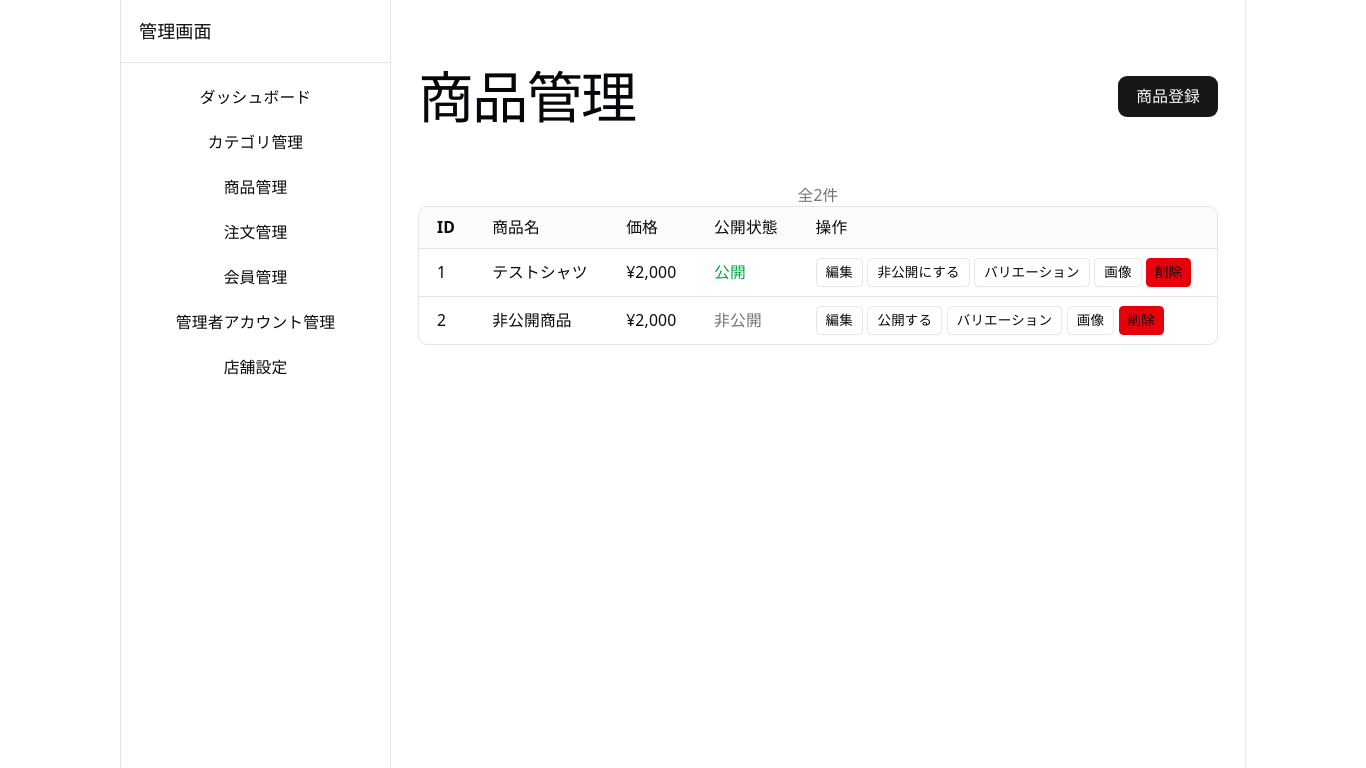
AdminProductsPage › 「編集」ボタンをクリックすると編集フォームが表示されること
This screenshot has width=1366, height=768.
Check: the text "テストシャツ" is shown, box x1=474 y1=248 x2=608 y2=296
Click the button "編集" in the row of "テストシャツ": (839, 272) x1=816 y1=258 x2=863 y2=287
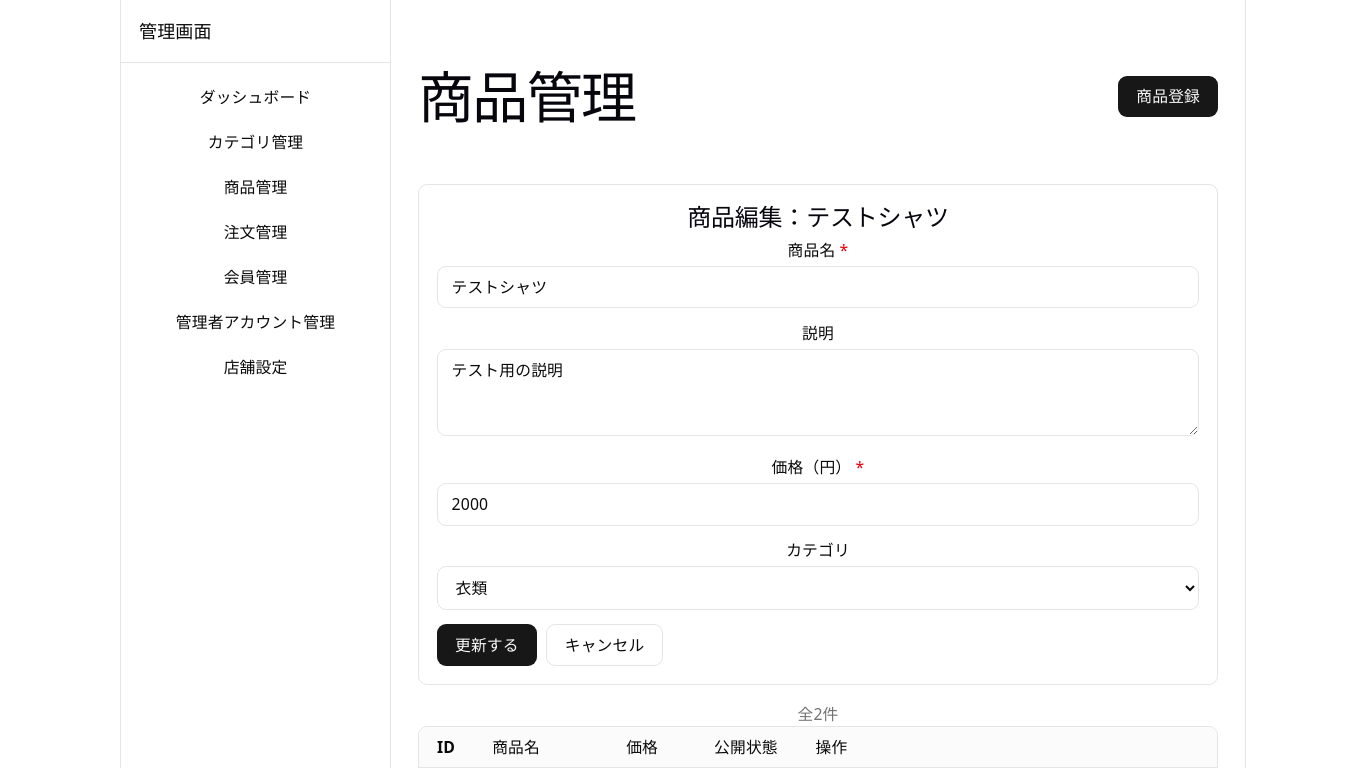
Check: the form named "商品編集フォーム" is shown, box x1=418 y1=184 x2=1218 y2=685
Check: the field showing "テストシャツ" is shown, box x1=437 y1=266 x2=1199 y2=308
Check: the number field showing "2000" is shown, box x1=437 y1=483 x2=1199 y2=526
